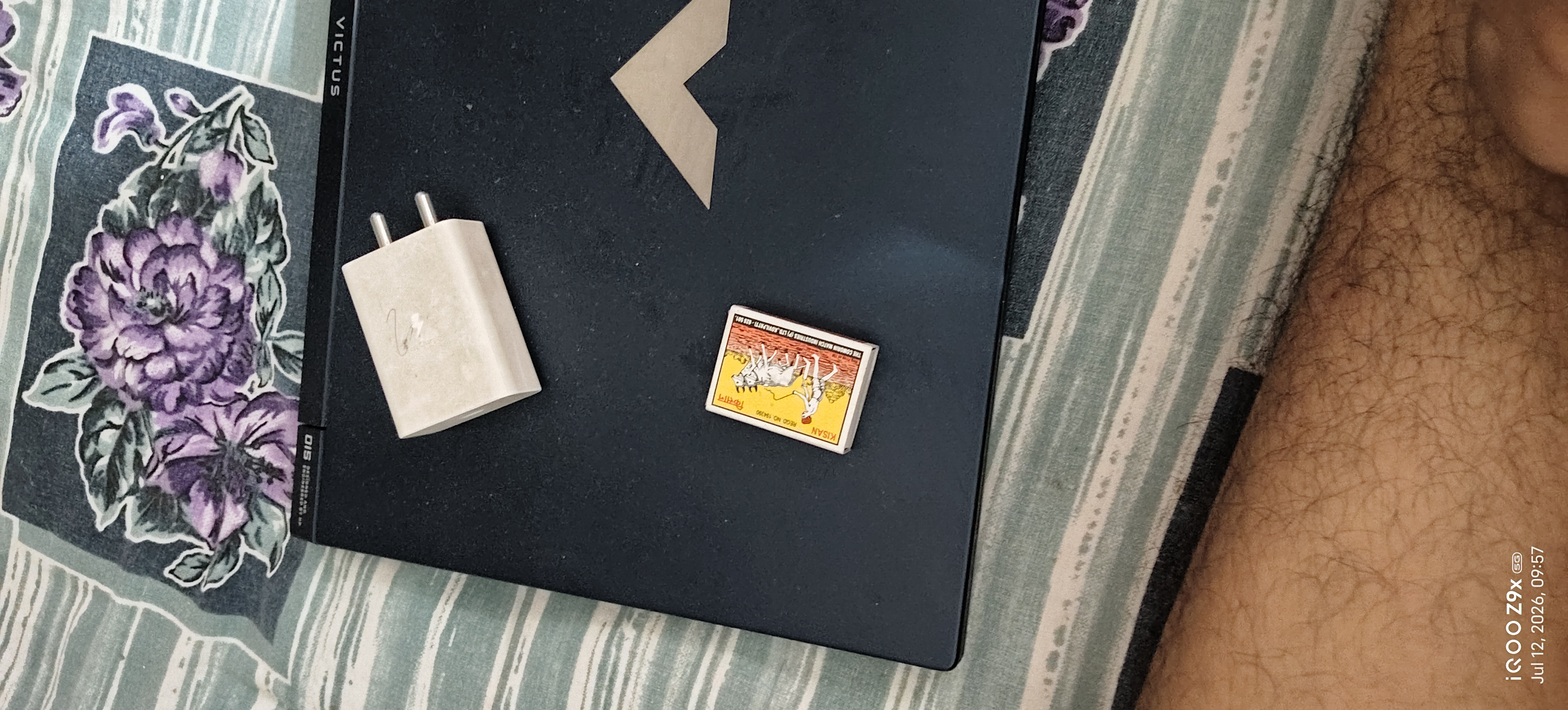charger: (325, 184, 555, 454)
matchbox: (693, 284, 892, 470)
